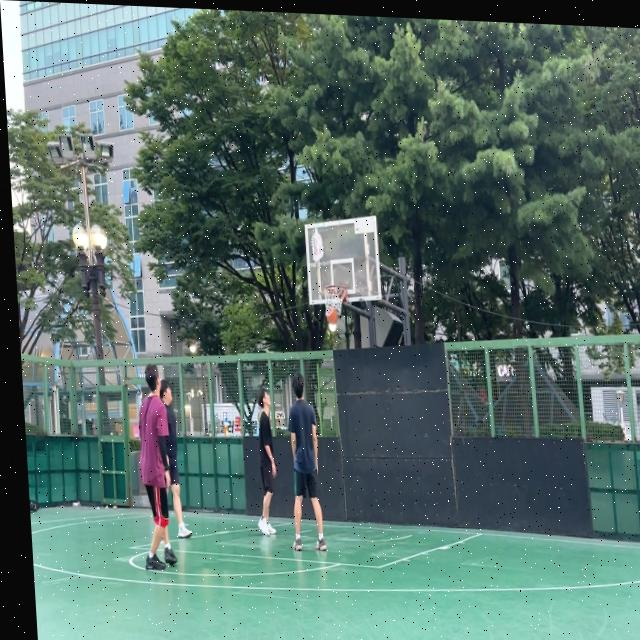basketball: (325, 305, 338, 325)
hoop: (323, 284, 349, 326), (323, 285, 349, 319)
